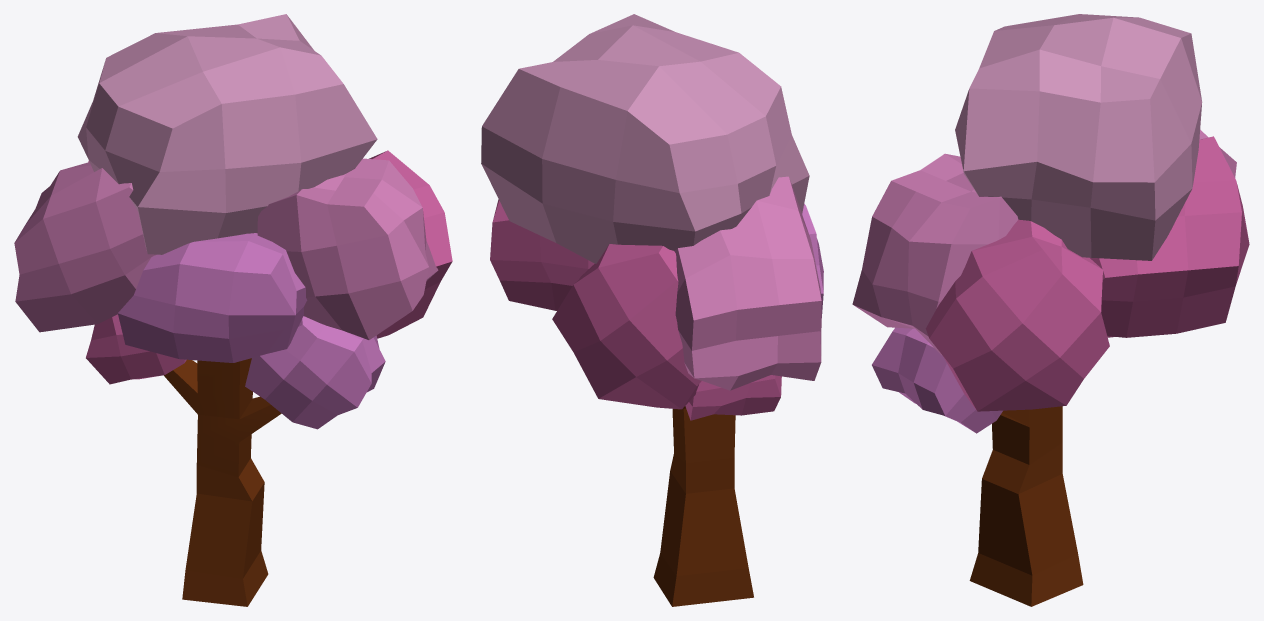
Rendered from Island3_BigTree_materials.fbx.
3 views of the same model, side by side, from view 1: azimuth 30°, elevation 25°; view 2: azimuth 150°, elevation 25°; view 3: azimuth 270°, elevation 25° (orthographic). The views are drawn at different scales.
Parts seen in each view (by area): view 1: polySurface7; view 2: polySurface7; view 3: polySurface7.
Boxes of the visible parts, box(x1,y1,x2,y2) form: polySurface7: box(14, 14, 452, 606); polySurface7: box(481, 14, 823, 606); polySurface7: box(852, 14, 1249, 606).
Bounding box in the file's own units: 12.1 × 16.89 × 10.73.
